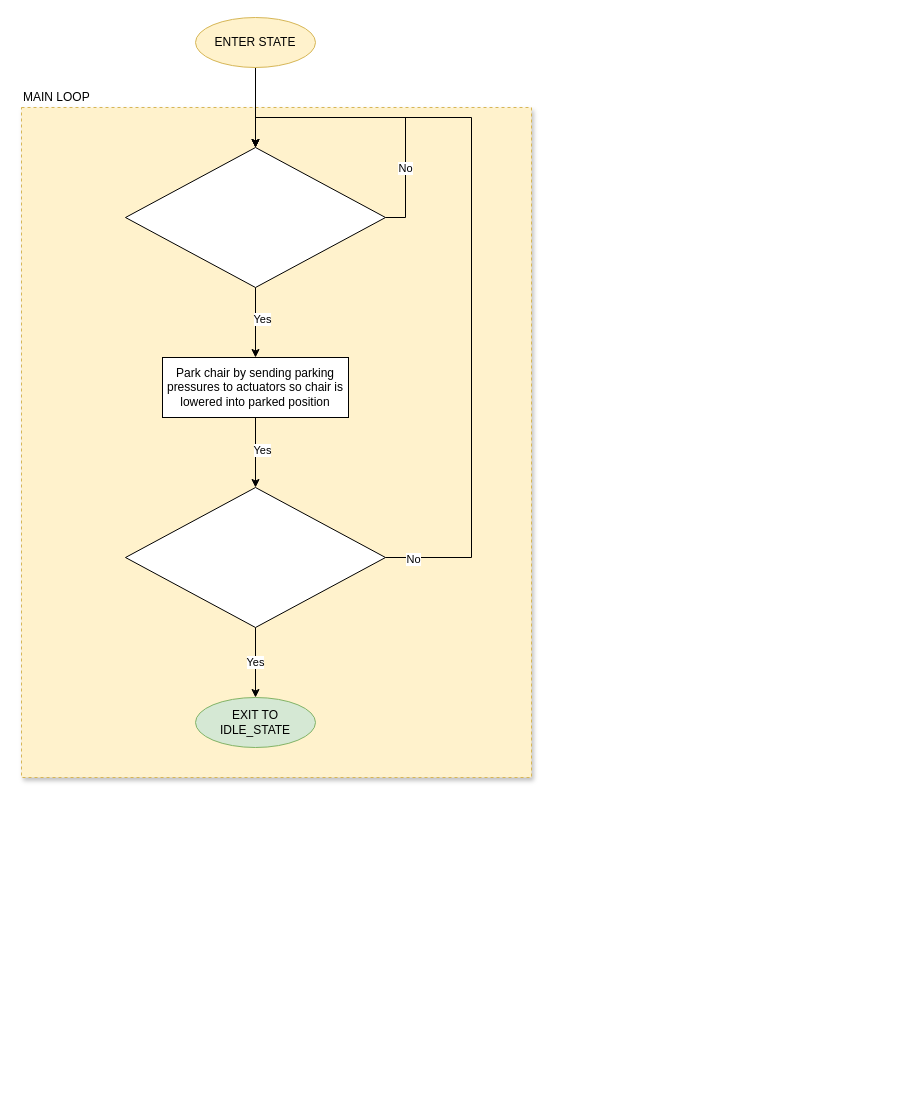
The diagram is 919 pixels wide and 1105 high, and some of its shapes have lost their labels. Each missing label, with the centre of its shape:
Are all safety sensors correct ie: is chair in safe state: (255,217)
Has user pressed "Return to idle" button?: (255,557)
